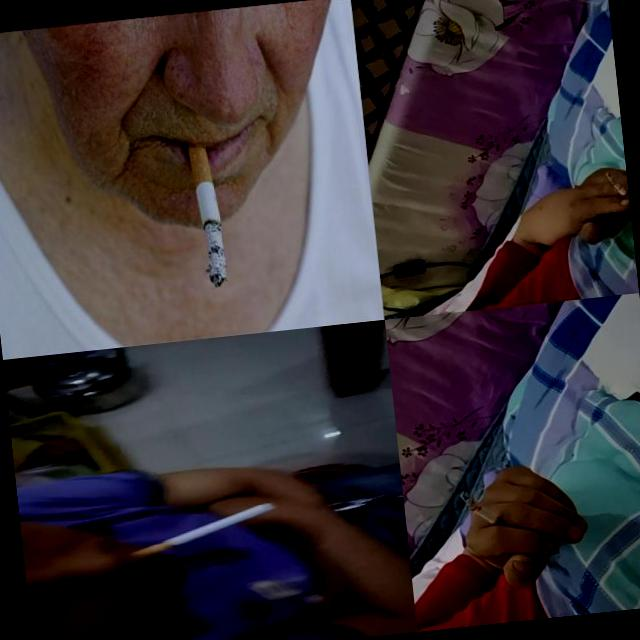smoke: (124, 502, 277, 561), (184, 132, 228, 291), (458, 486, 512, 534), (604, 169, 630, 215)
